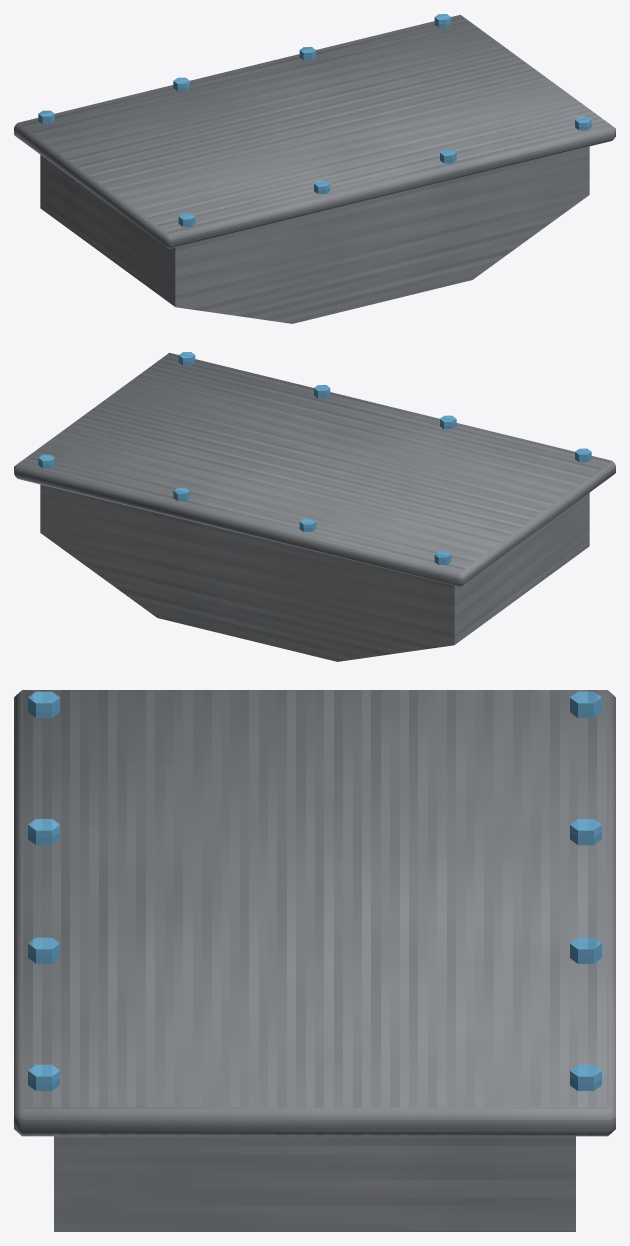
File: carter_n1.glb
The picture shows the model from 3 angles, top to bottom: view 1: azimuth 30°, elevation 25°; view 2: azimuth 150°, elevation 25°; view 3: azimuth 270°, elevation 25°; orthographic projection. The views are drawn at different scales.
Visible parts, largest first — view 1: carter_n1; view 2: carter_n1; view 3: carter_n1.
Boxes of the visible parts, x1,y1,x2,y2 form: carter_n1: (14, 14, 615, 323); carter_n1: (14, 352, 615, 661); carter_n1: (14, 690, 615, 1231).
Size of the model in its own units: 0.5 by 0.154 by 0.3.
Materials: 1 (1 with a texture image).
